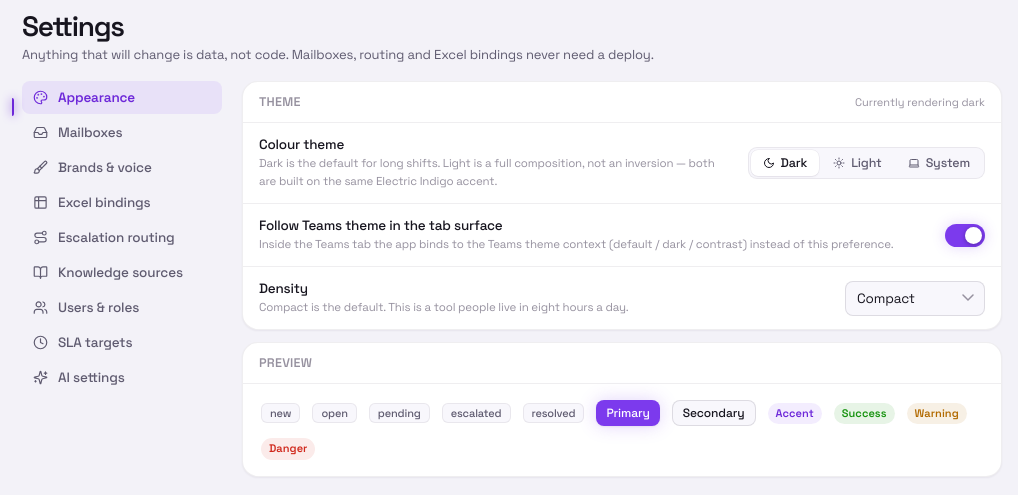
it: Settings in live mode › fetches SLA targets from the API
The width and height of the screenshot is (1018, 495).
Click the button "SLA targets": point(122, 343) top-left (22, 326), bottom-right (222, 359)
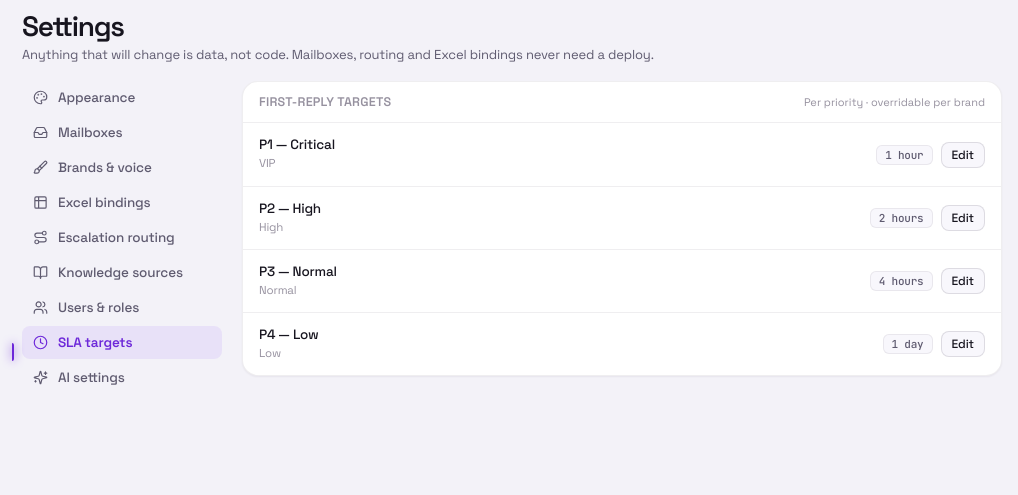
Result: the text "P1 — Critical" is shown at top-left (259, 136), bottom-right (335, 153)
Result: the text "1 hour" is shown at top-left (876, 144), bottom-right (932, 164)
